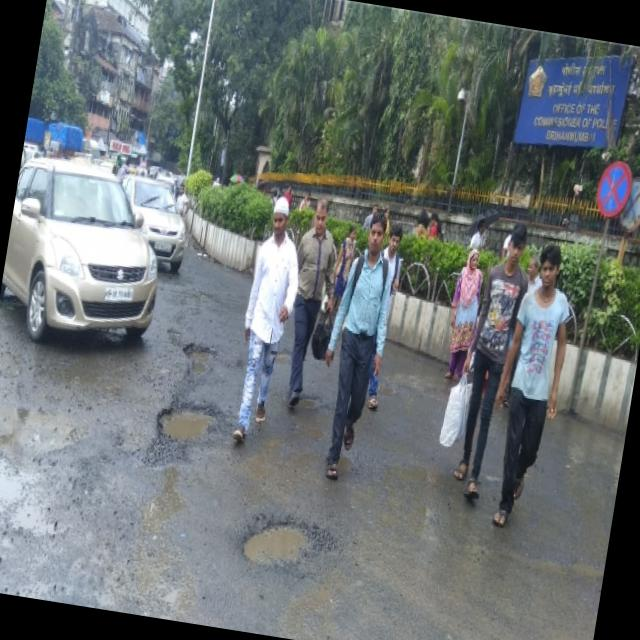Potholes: (244, 481, 320, 583), (151, 392, 236, 464), (174, 316, 226, 386)
